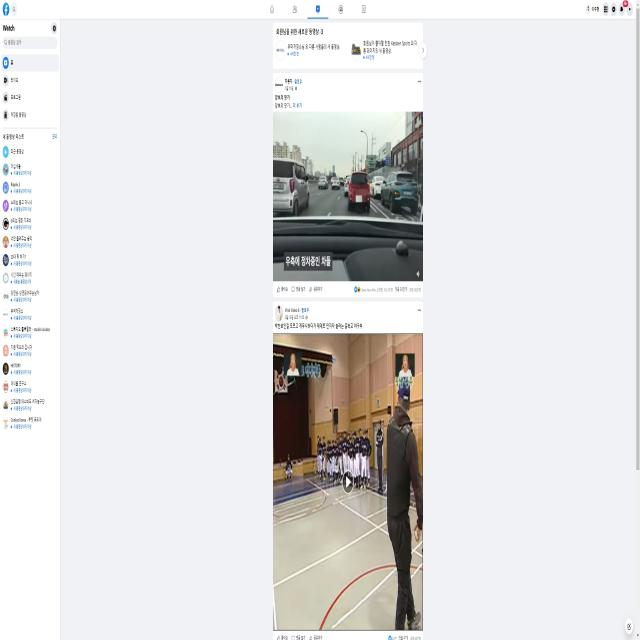search: (3, 34, 57, 49)
